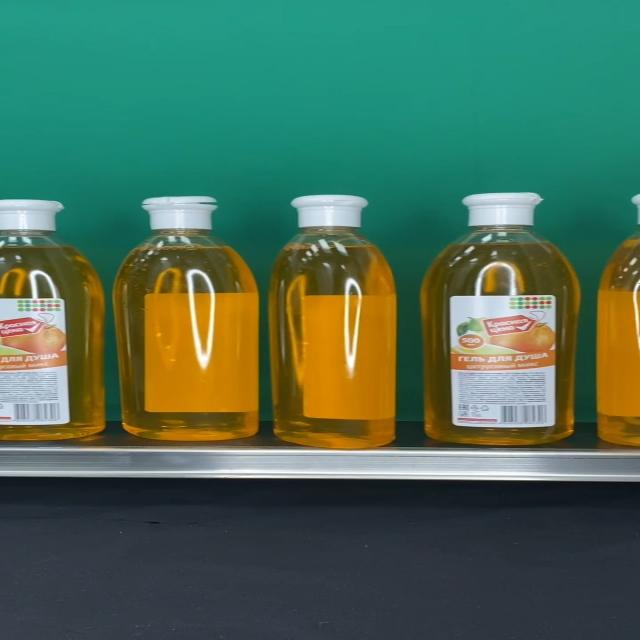Bottle: (420, 193, 581, 443), (113, 197, 260, 441), (270, 194, 397, 449)
Cap: (461, 193, 543, 226), (140, 197, 217, 231), (292, 195, 369, 228)
